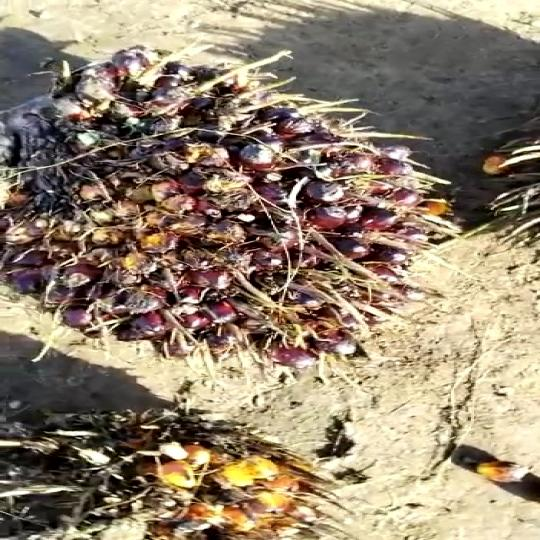kurang masak: (0, 43, 460, 369)
